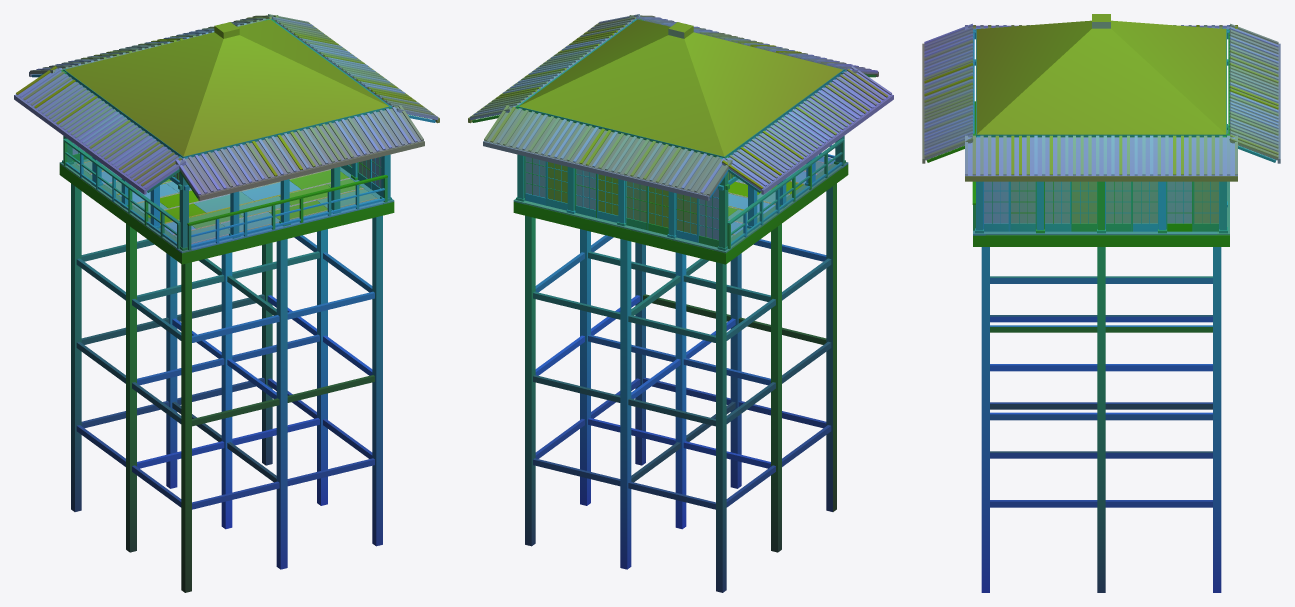
The model's file is B_room_b.glb.
3 views of the same model, side by side, from view 1: azimuth 30°, elevation 25°; view 2: azimuth 150°, elevation 25°; view 3: azimuth 270°, elevation 25° (orthographic). The views are drawn at different scales.
Visible parts, largest first — view 1: B_room_b; view 2: B_room_b; view 3: B_room_b.
Boxes of the visible parts, left/top/right/bottom form: B_room_b: left=14, top=14, right=439, bottom=592; B_room_b: left=468, top=14, right=893, bottom=592; B_room_b: left=922, top=14, right=1280, bottom=592.
Bounding box in the file's own units: 11.14 × 18 × 11.14.
